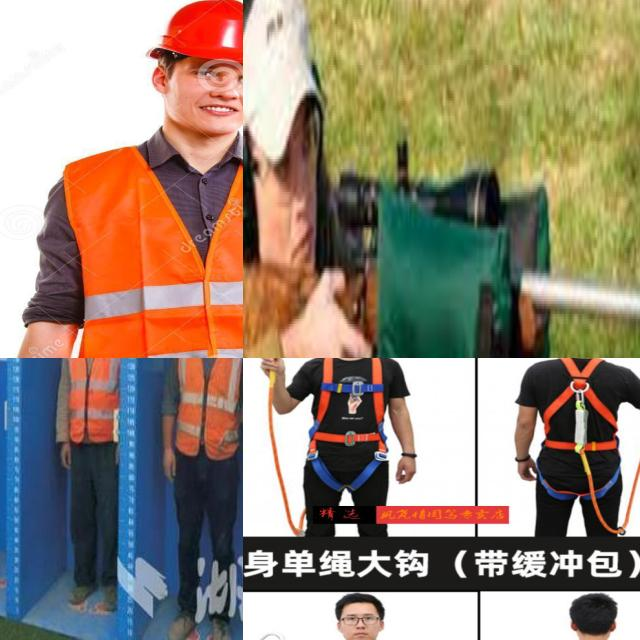Ear-protection: (243, 0, 334, 316)
Harness: (528, 358, 625, 512), (309, 358, 396, 496)
face_nomask: (165, 59, 243, 124)
hand_noglove: (159, 442, 187, 493), (54, 436, 73, 477)
head_helmet: (157, 0, 243, 72)
person: (3, 0, 243, 358), (243, 0, 368, 358), (159, 358, 243, 637), (40, 358, 124, 621)
shoes: (163, 602, 198, 640), (205, 607, 238, 640), (66, 576, 96, 608), (101, 570, 122, 614)
vest: (66, 134, 243, 358), (54, 358, 135, 439), (172, 358, 243, 450)
